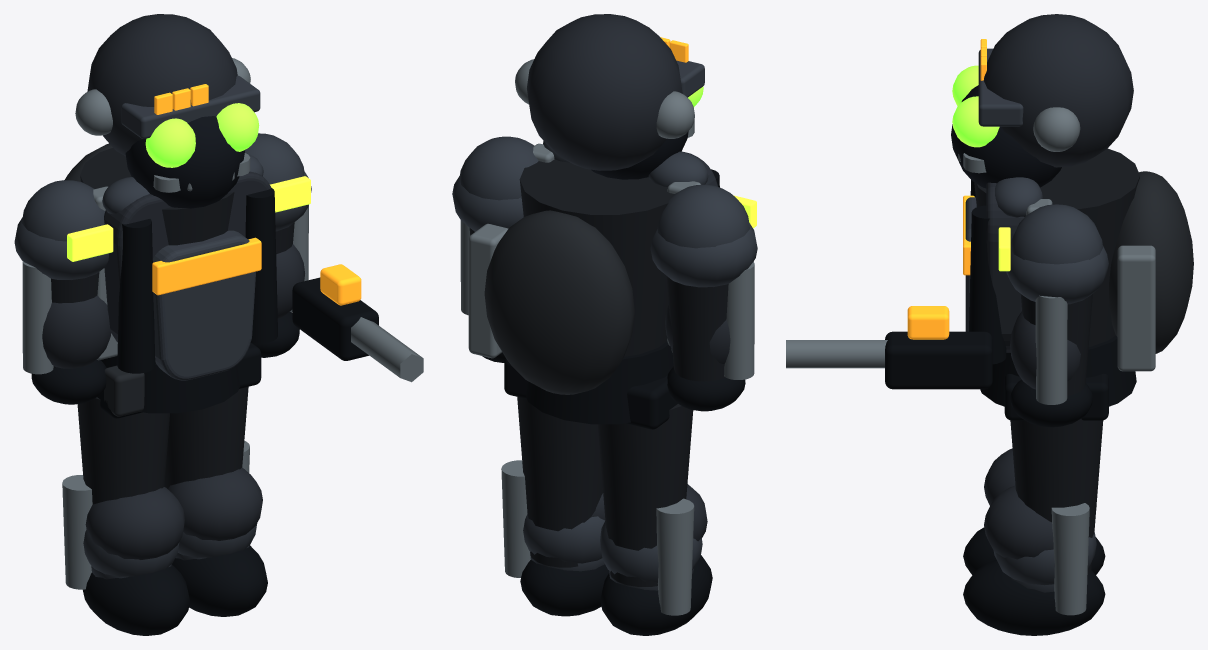
File: assault_l03.glb
3 renders of one model, left to right at view 1: azimuth 30°, elevation 25°; view 2: azimuth 150°, elevation 25°; view 3: azimuth 270°, elevation 25°, orthographic. The views are drawn at different scales.
Visible parts, largest first — view 1: trouser (×2), rounded_helmet, shaped_knee_guard (×2), rounded_boot (×2), front_plate, vest_tether (×2), enclosed_mask, shoulder_joint (×2), curved_forearm_guard (×2), contoured_vest, carbine_body, body (+19 smaller); view 2: shaped_field_pack, trouser (×2), rounded_helmet, body, shoulder_joint (×2), rounded_boot (×2), shin_frame (×2), shoulder_plate (×2), waist_flex, sleeve, knee_plate (×2), forearm_seam (×2) (+9 smaller); view 3: rounded_helmet, shaped_field_pack, trouser, rounded_boot (×2), body, carbine_body, spare_magazine, shaped_knee_guard (×2), shoulder_joint, shin_frame, shoulder_plate, forearm_seam (+18 smaller).
Part boxes in pixels (left/top/right/bottom): trouser (×2): left=77, top=386, right=248, bottom=504; rounded_helmet: left=87, top=14, right=237, bottom=156; shaped_knee_guard (×2): left=85, top=468, right=262, bottom=559; rounded_boot (×2): left=83, top=545, right=267, bottom=635; front_plate: left=152, top=230, right=255, bottom=380; vest_tether (×2): left=117, top=187, right=277, bottom=373; enclosed_mask: left=125, top=116, right=245, bottom=208; shoulder_joint (×2): left=22, top=133, right=304, bottom=241; curved_forearm_guard (×2): left=42, top=244, right=304, bottom=368; contoured_vest: left=104, top=171, right=270, bottom=364; carbine_body: left=292, top=277, right=378, bottom=360; body: left=80, top=148, right=234, bottom=245; shaped_field_pack: left=484, top=210, right=634, bottom=394; trouser (×2): left=517, top=397, right=693, bottom=586; rounded_helmet: left=527, top=14, right=682, bottom=170; body: left=519, top=159, right=674, bottom=356; shoulder_joint (×2): left=460, top=136, right=749, bottom=248; rounded_boot (×2): left=520, top=555, right=712, bottom=635; shin_frame (×2): left=501, top=460, right=694, bottom=615; shoulder_plate (×2): left=452, top=175, right=757, bottom=287; waist_flex: left=526, top=341, right=673, bottom=424; sleeve: left=666, top=276, right=728, bottom=381; knee_plate (×2): left=523, top=514, right=702, bottom=582; forearm_seam (×2): left=460, top=220, right=754, bottom=379; rounded_helmet: left=983, top=14, right=1133, bottom=167; shaped_field_pack: left=1109, top=171, right=1193, bottom=353; trouser: left=1010, top=418, right=1103, bottom=575; rounded_boot (×2): left=963, top=527, right=1105, bottom=635; body: left=974, top=148, right=1139, bottom=346; carbine_body: left=885, top=331, right=992, bottom=389; spare_magazine: left=1117, top=245, right=1155, bottom=371; shaped_knee_guard (×2): left=984, top=448, right=1053, bottom=559; shoulder_joint: left=1010, top=204, right=1102, bottom=264; shin_frame: left=1051, top=503, right=1089, bottom=615; shoulder_plate: left=1006, top=246, right=1108, bottom=304; forearm_seam: left=1035, top=295, right=1067, bottom=404.
Bounding box in the file's own units: 0.95 × 1.88 × 1.18.
